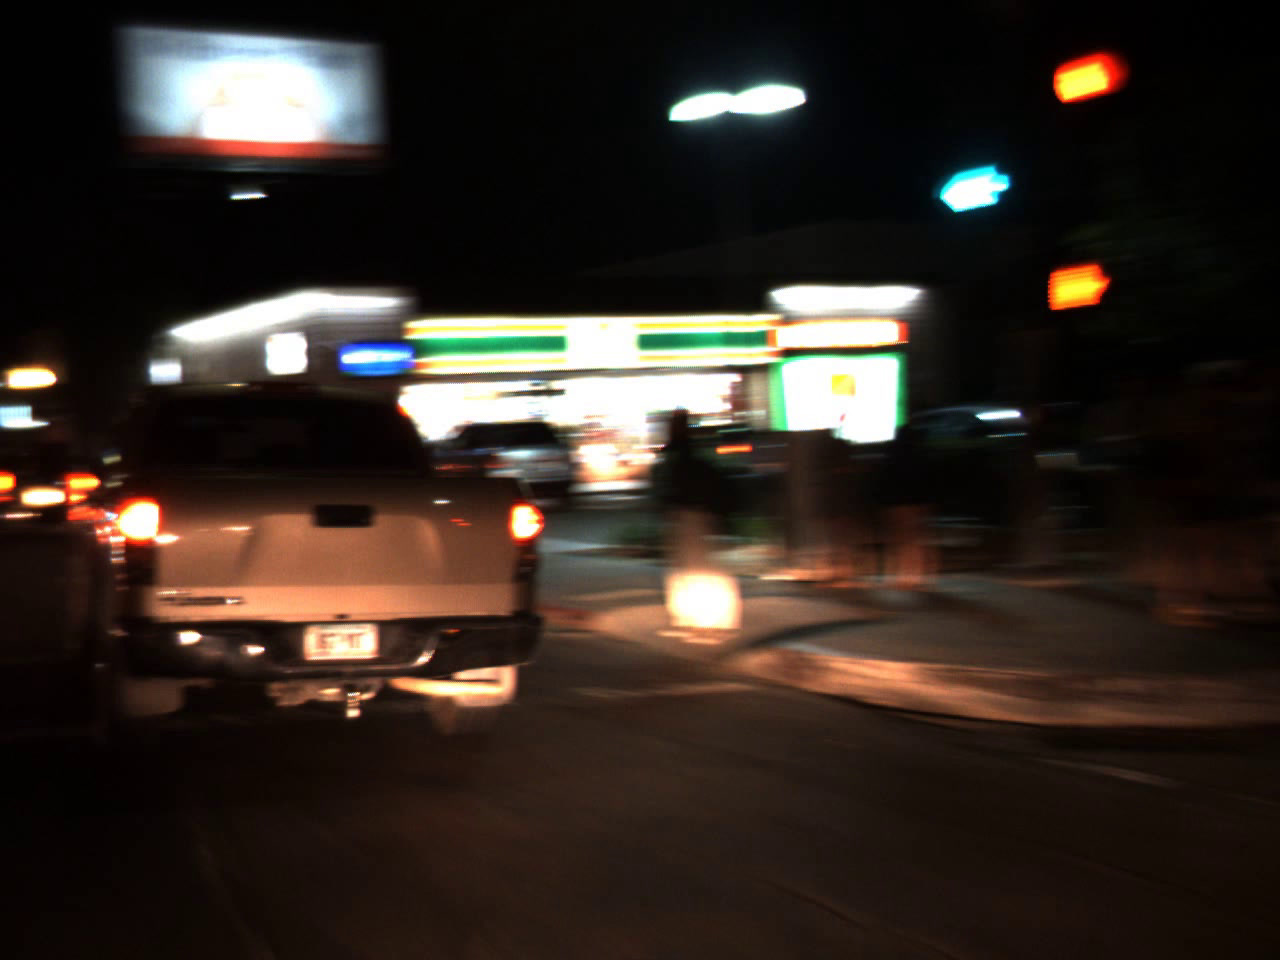go: (925, 140, 1024, 218)
